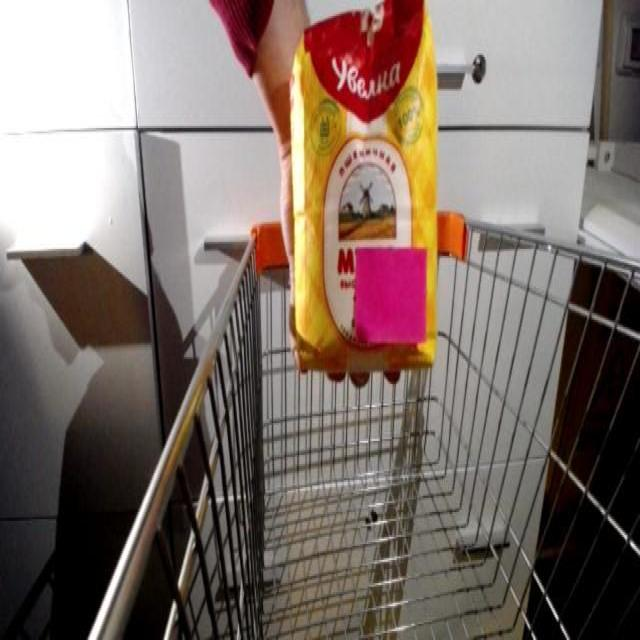Almond Milk: (282, 2, 448, 384)
